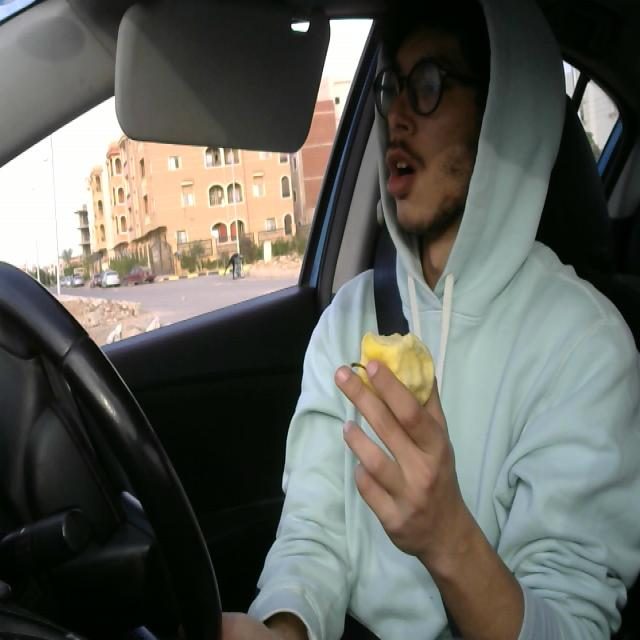eating: (346, 326, 436, 408)
